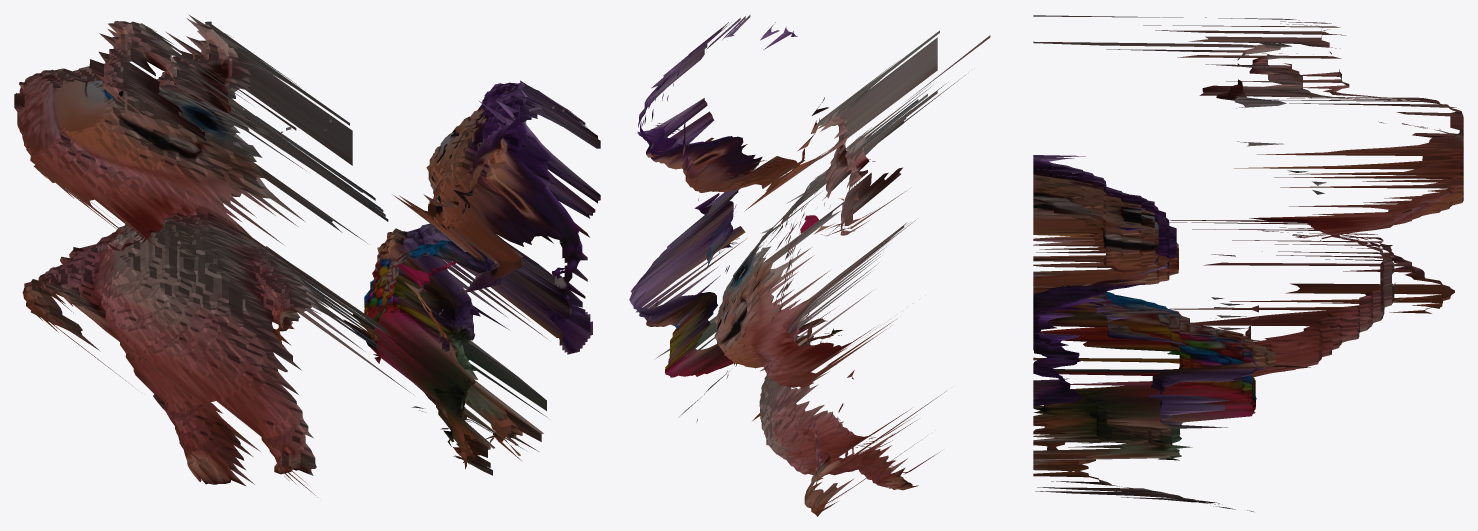
Rendered from frame_00098.glb.
3 views of the same model, side by side, from view 1: azimuth 30°, elevation 25°; view 2: azimuth 150°, elevation 25°; view 3: azimuth 270°, elevation 25° (orthographic). The views are drawn at different scales.
Visible parts, largest first — view 1: geometry_0; view 2: geometry_0; view 3: geometry_0.
Boxes of the visible parts, left/top/right/bottom form: geometry_0: left=14, top=14, right=600, bottom=497; geometry_0: left=629, top=15, right=990, bottom=516; geometry_0: left=1033, top=15, right=1463, bottom=512.
Size of the model in its own units: 0.1377 by 0.1596 by 0.16.
Materials: 1 (1 with a texture image).
